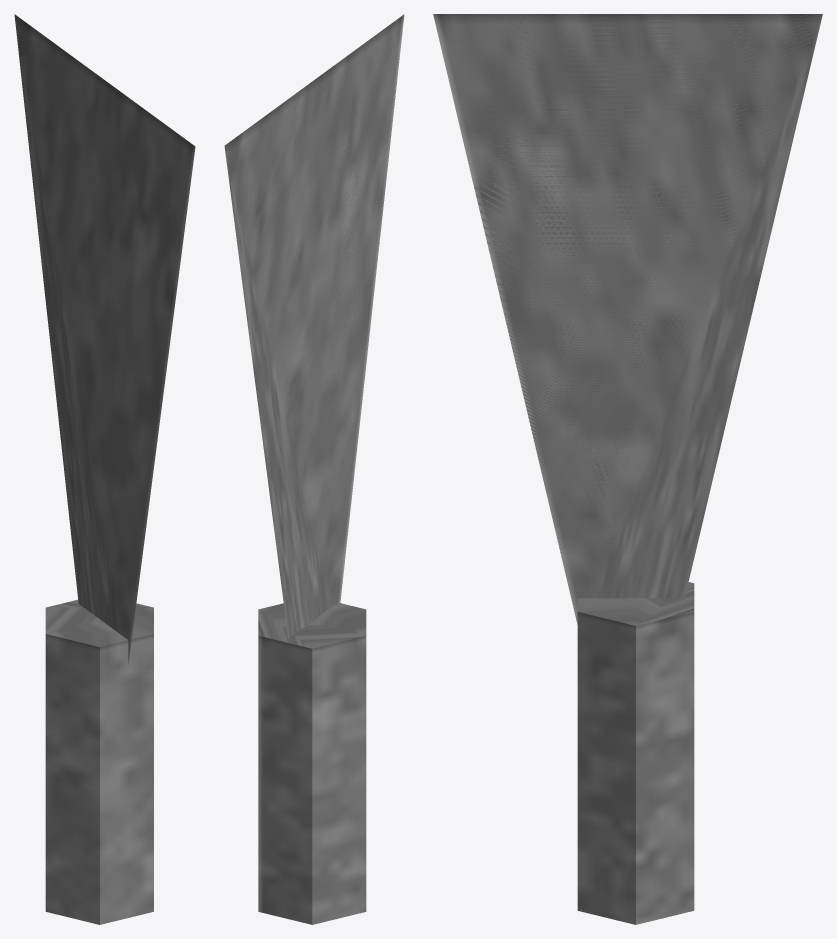
The model's file is 加工刀.dae.
3 renders of one model, left to right at view 1: azimuth 30°, elevation 25°; view 2: azimuth 150°, elevation 25°; view 3: azimuth 270°, elevation 25°, orthographic. The views are drawn at different scales.
Parts seen in each view (by area): view 1: cuboid, Handle; view 2: cuboid, Handle; view 3: cuboid, Handle.
Boxes of the visible parts, x1,y1,x2,y2 form: cuboid: (14,14,195,664); Handle: (45,599,153,924); cuboid: (224,14,404,638); Handle: (258,602,366,924); cuboid: (433,14,822,624); Handle: (577,582,694,924).
Size of the model in its own units: 0.0864 by 0.625 by 0.25.
